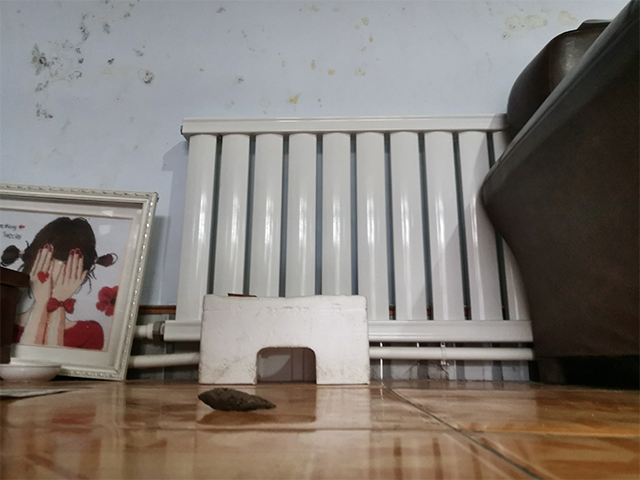feces: (195, 385, 277, 414)
sofa: (478, 1, 640, 387)
